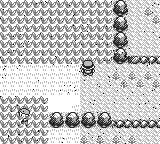captura: (1, 0, 112, 64), (1, 96, 48, 143)
main: (81, 60, 96, 76)
no-caminable: (49, 112, 112, 128), (113, 0, 128, 64)
npc: (18, 108, 30, 123)
salto: (113, 120, 160, 128), (129, 56, 160, 64)
